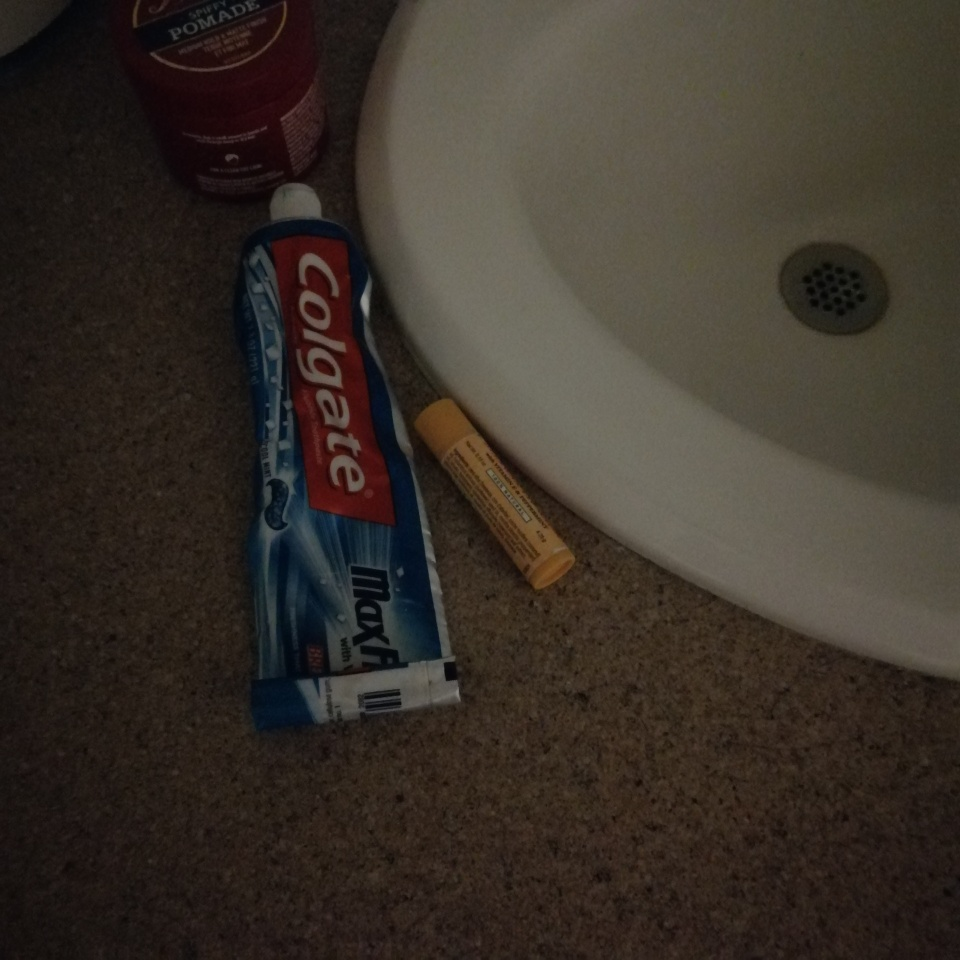chapstick: (412, 399, 577, 593)
